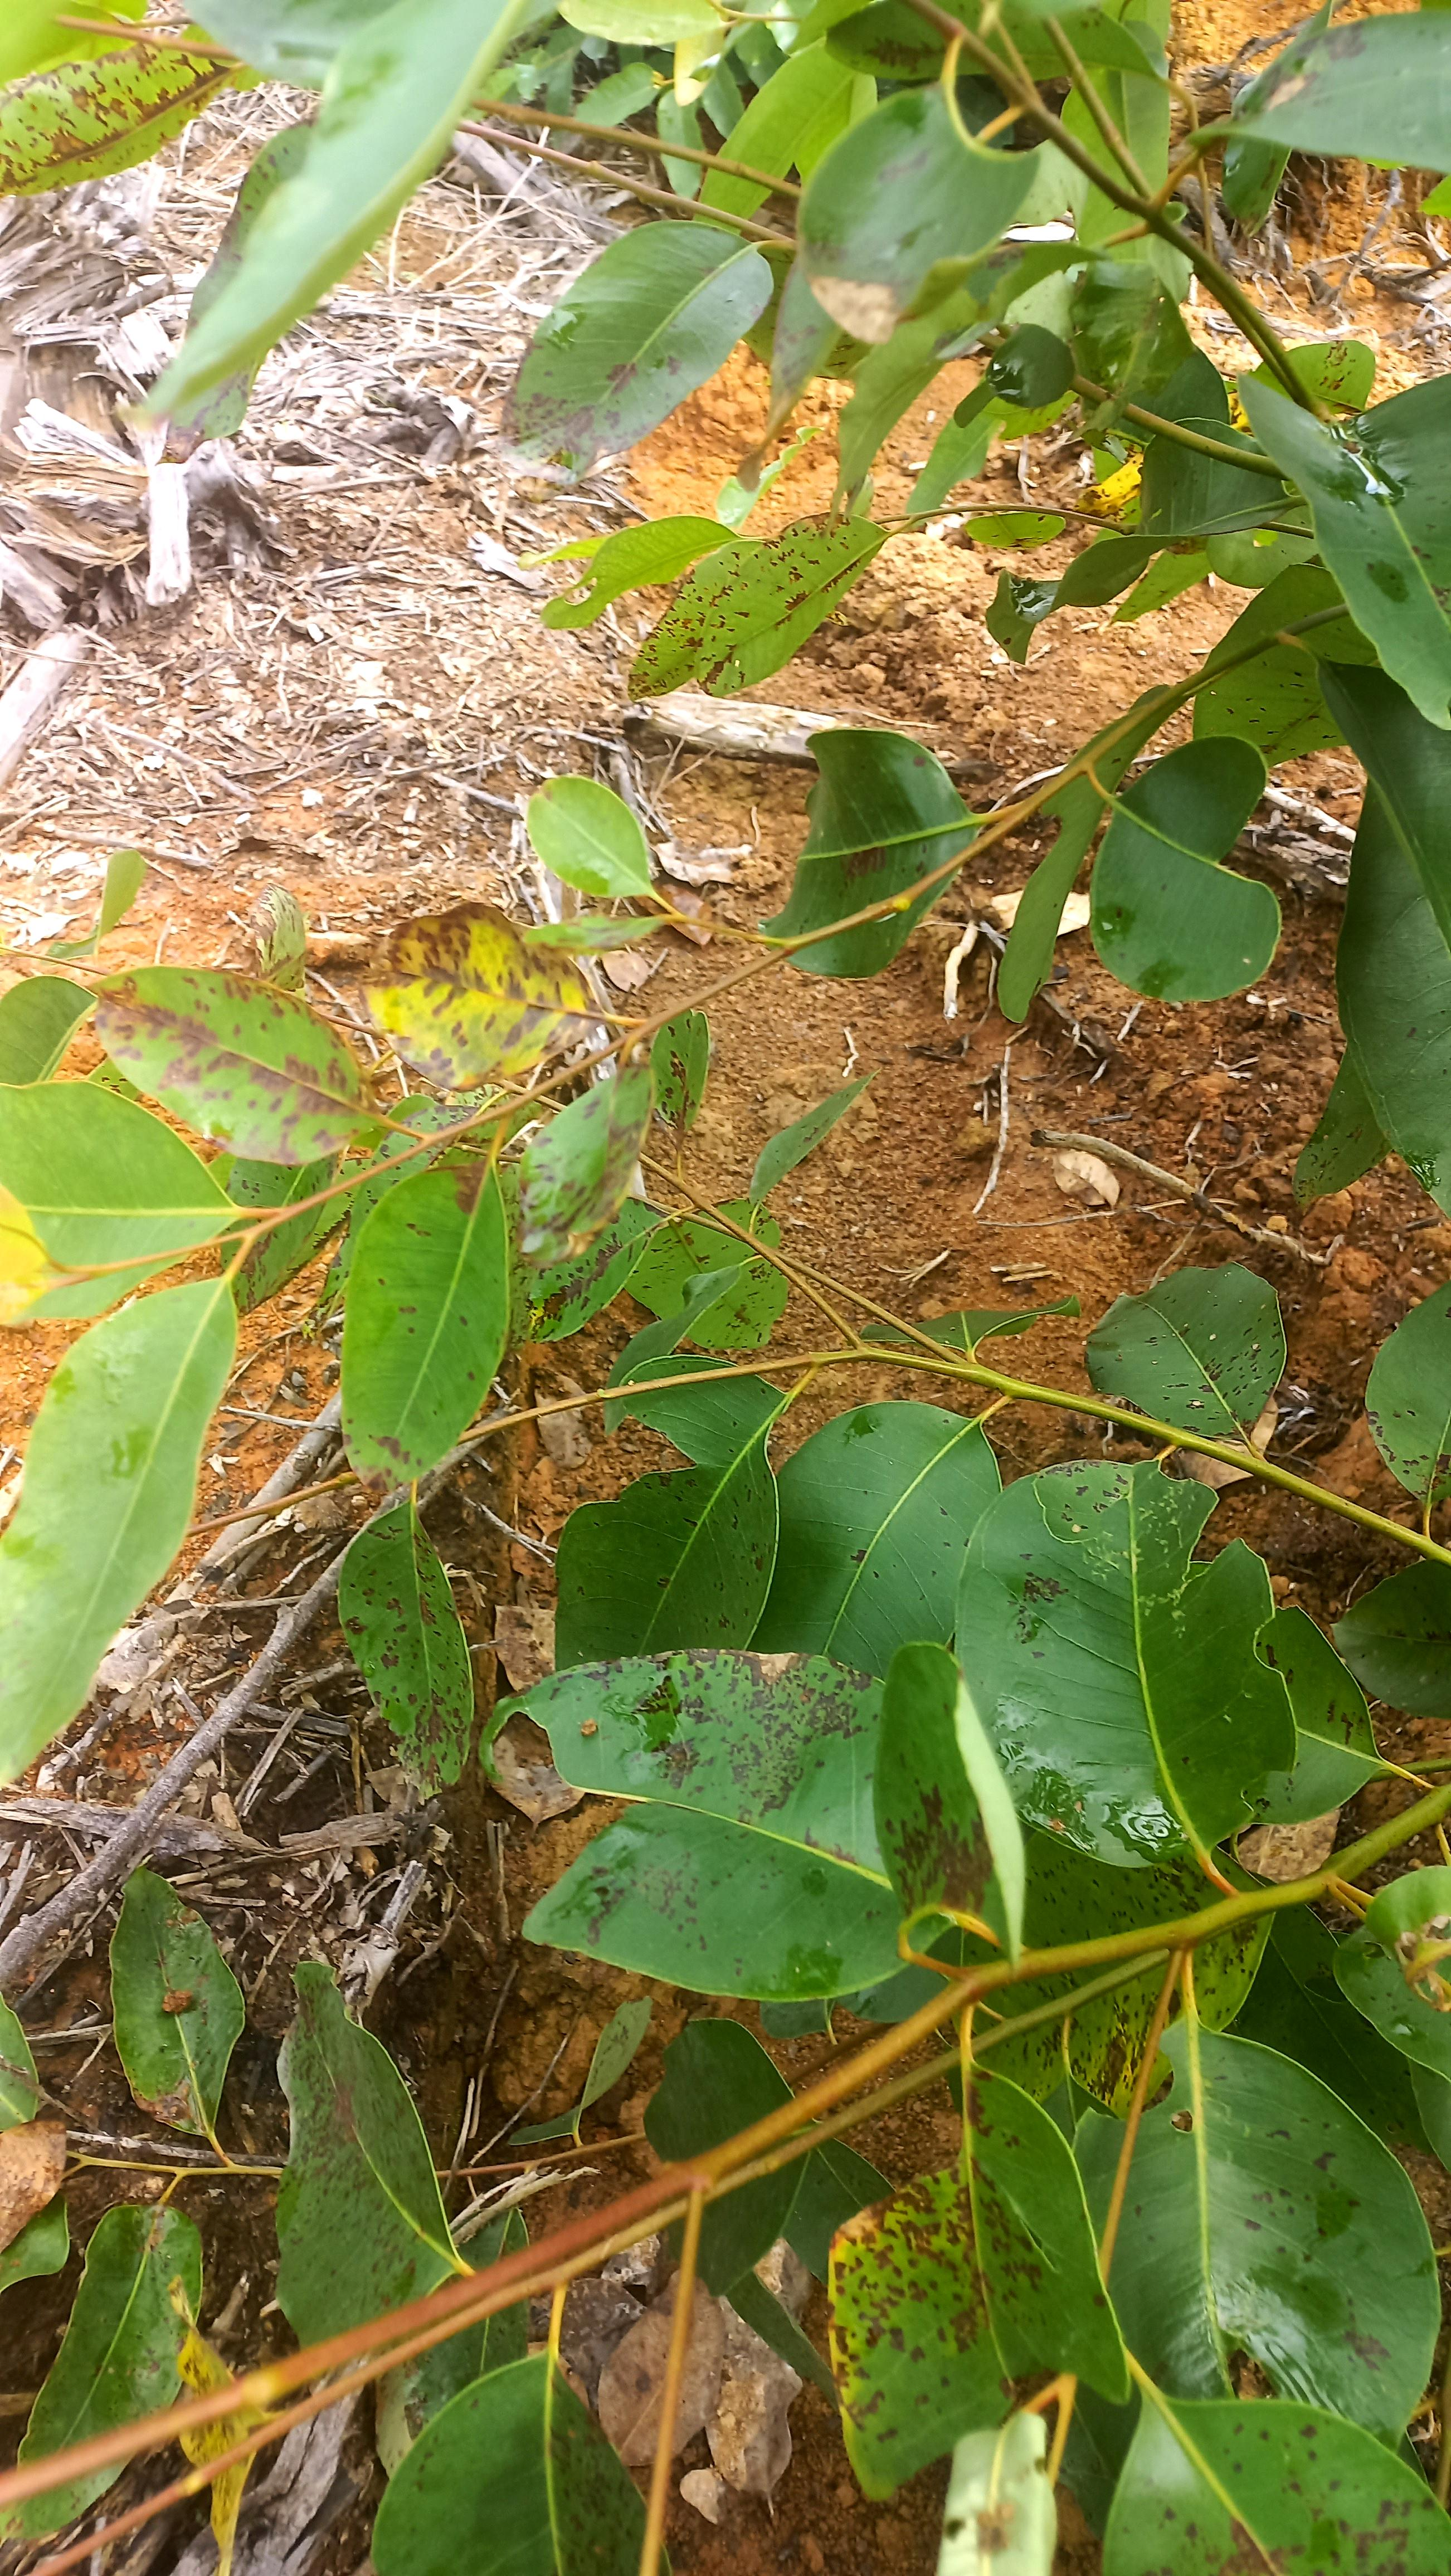Xanthomonas: (795, 2137, 1039, 2433), (359, 901, 612, 1095), (584, 1647, 879, 1808), (117, 985, 343, 1138)
